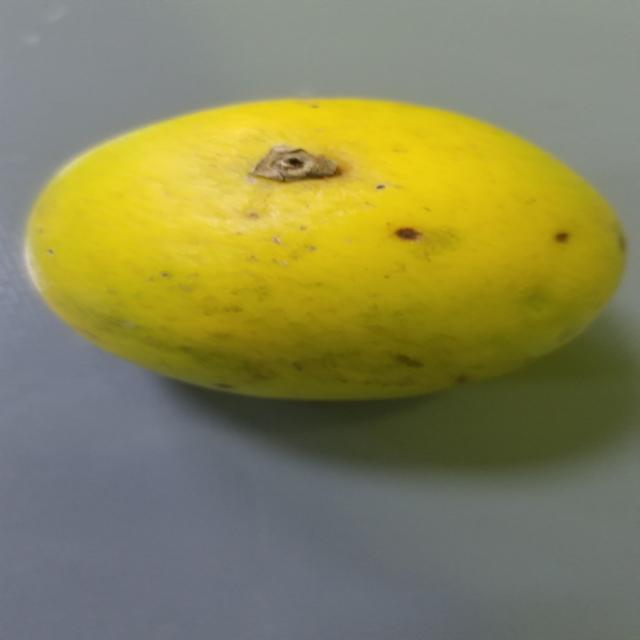Ripe orange: (3, 99, 640, 411)
